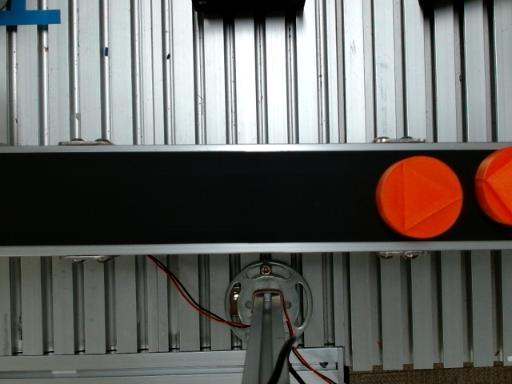Not_Square: (403, 161, 463, 232)
Orange_Waper: (376, 156, 462, 238), (476, 148, 511, 226)
